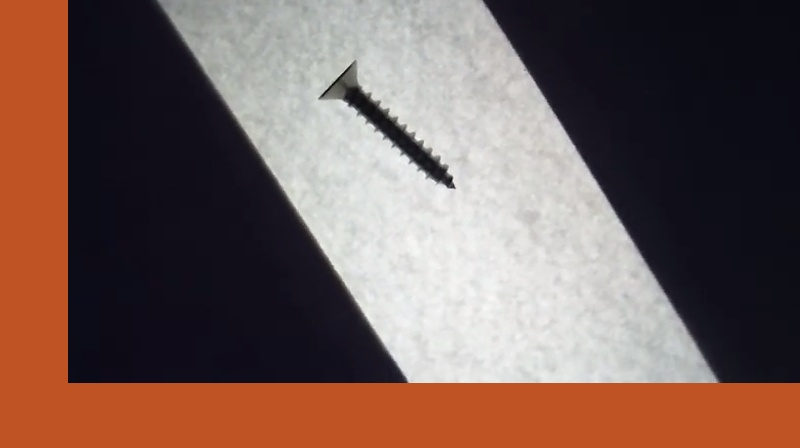S001: (310, 56, 460, 193)
